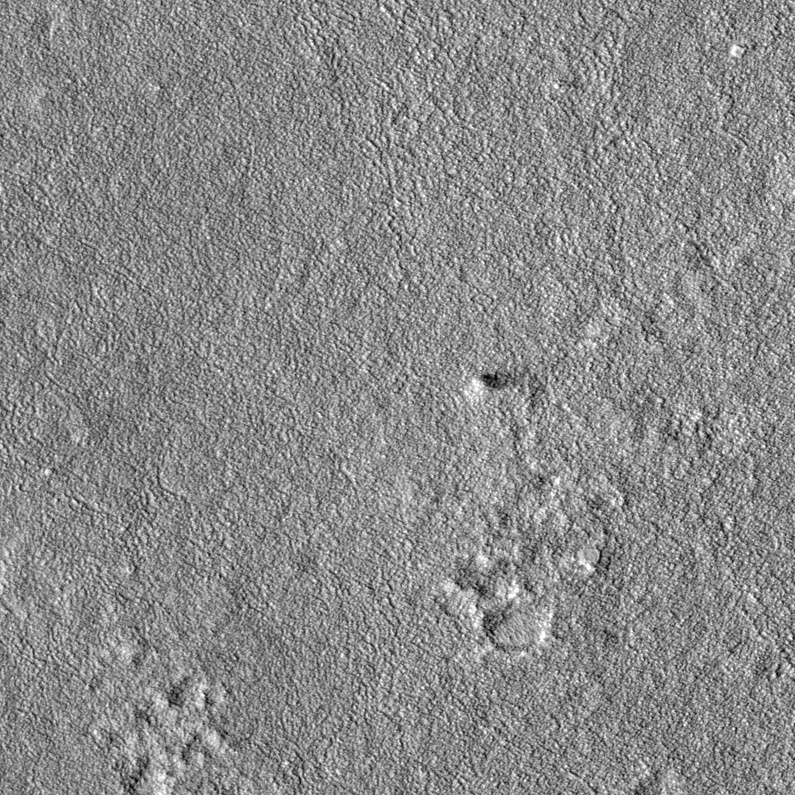dust_devil: (460, 369, 527, 406)
